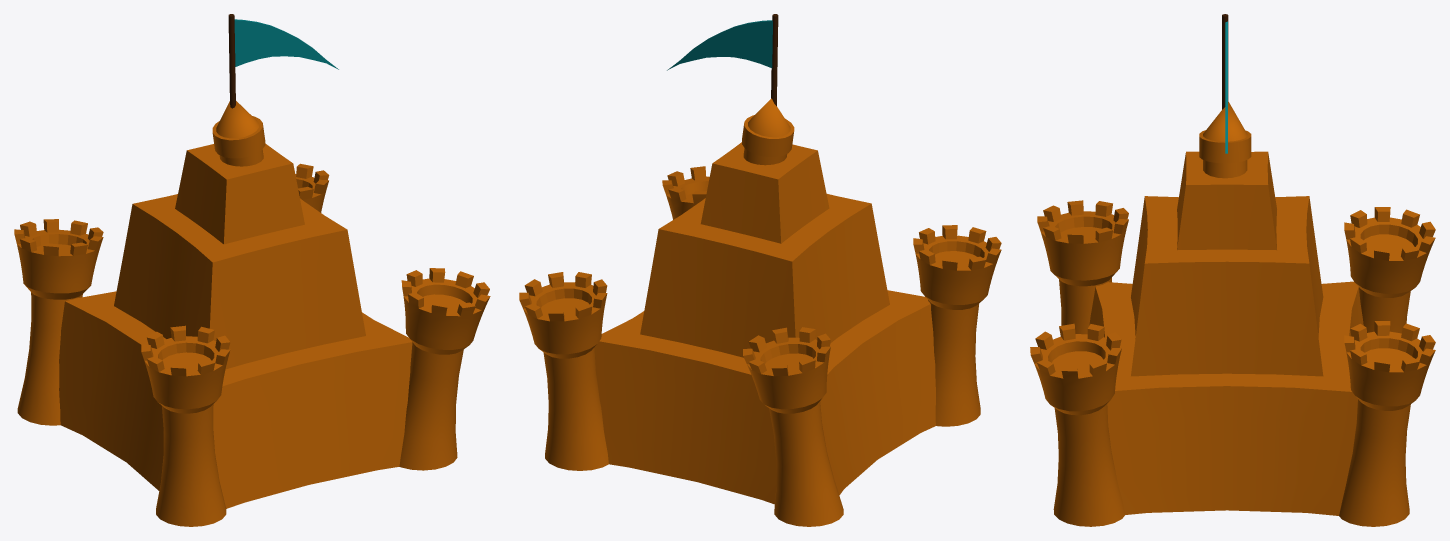
Rendered from 3D_SandCastle_3.FBX.
The picture shows the model from 3 angles, left to right: view 1: azimuth 30°, elevation 25°; view 2: azimuth 150°, elevation 25°; view 3: azimuth 270°, elevation 25°; orthographic projection. The views are drawn at different scales.
Visible parts, largest first — view 1: 3D_SandCastle_2; view 2: 3D_SandCastle_2; view 3: 3D_SandCastle_2.
Part boxes in pixels (<box>): 3D_SandCastle_2: <box>14,14,490,526</box>; 3D_SandCastle_2: <box>519,14,1001,526</box>; 3D_SandCastle_2: <box>1030,14,1435,526</box>.
Bounding box in the file's own units: 79.81 × 96.2 × 81.58.
